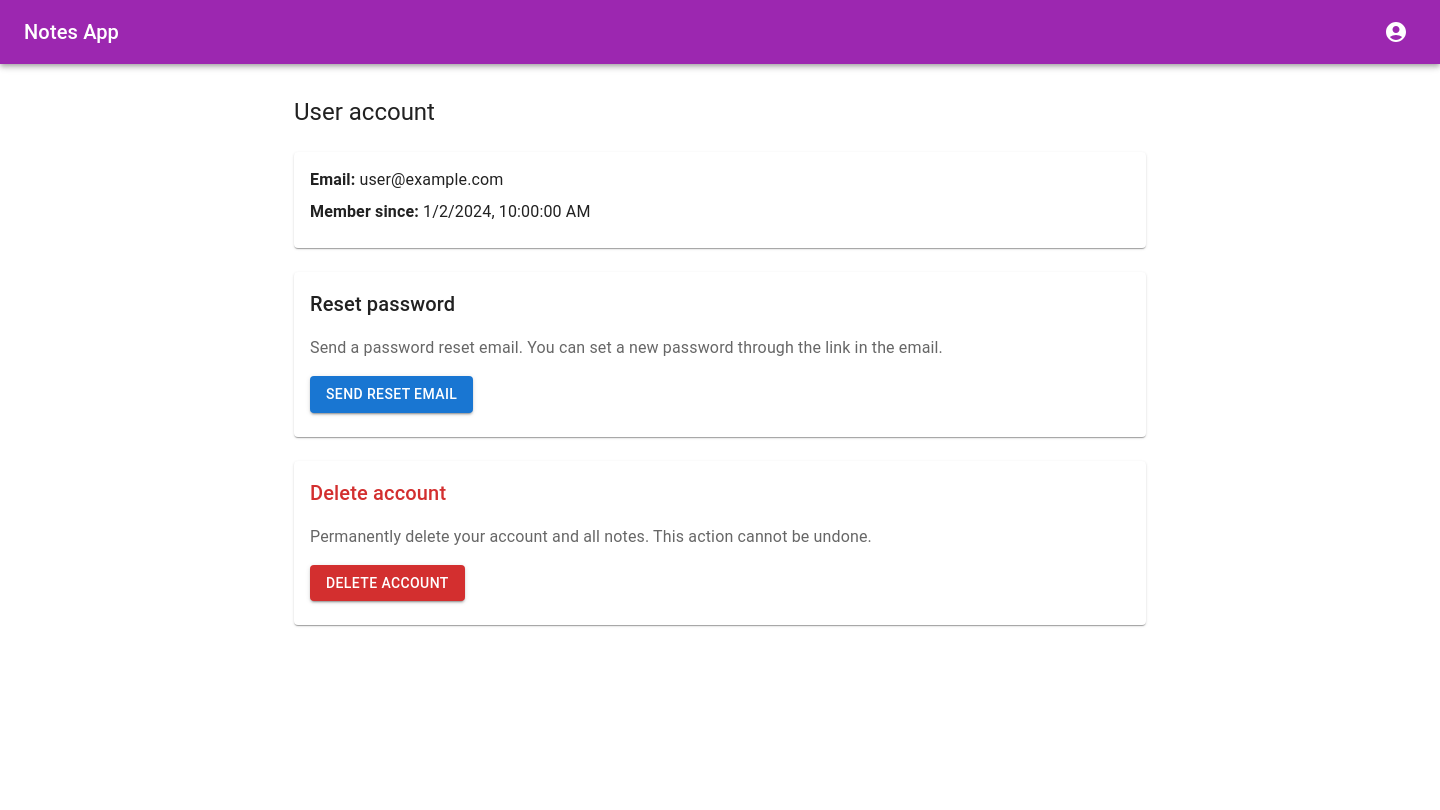
Scenario: sends password reset request
Step 1. Click the button "Send reset email" → (392, 394), box [310, 376, 473, 412]
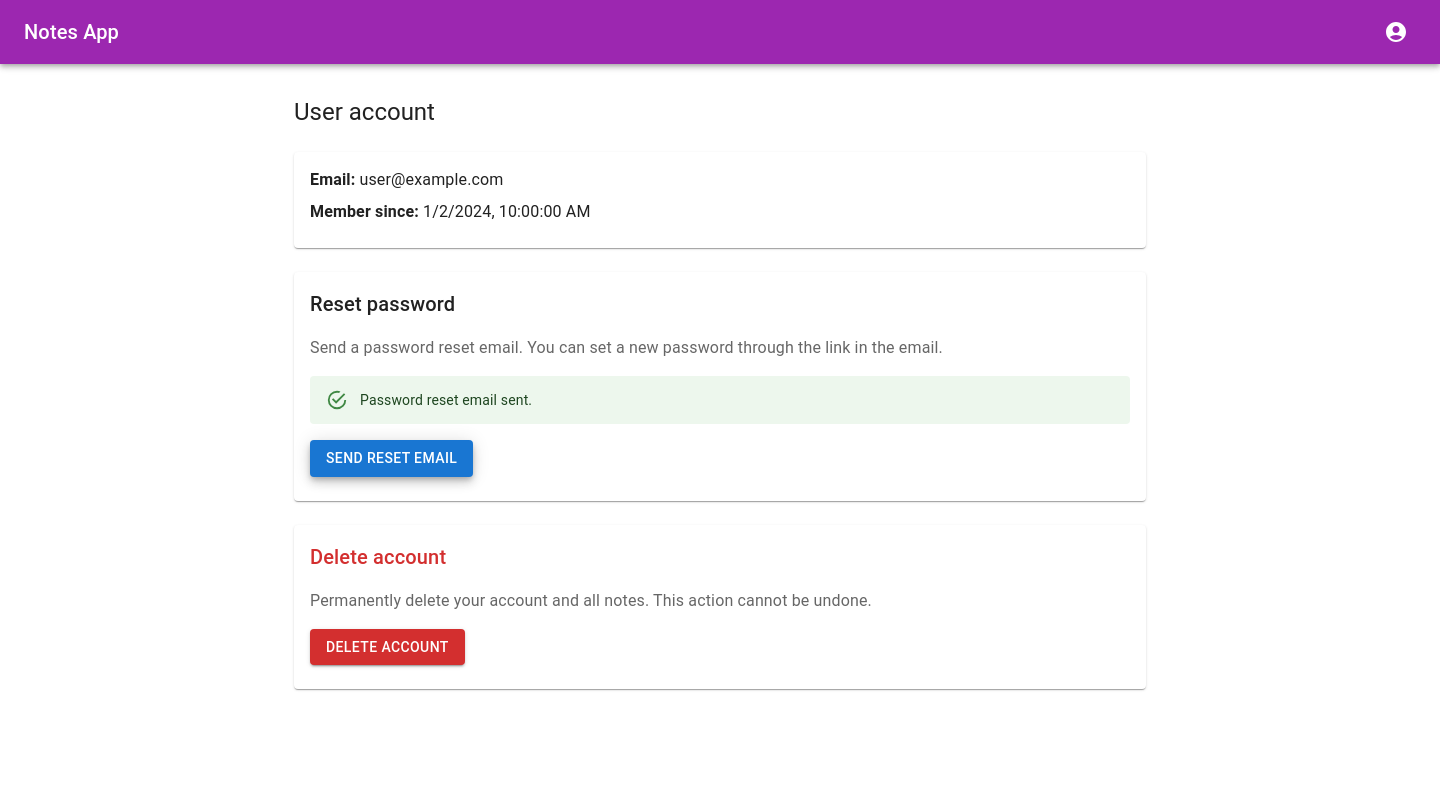
Check: the text "Password reset email sent." is shown, box [360, 392, 532, 408]
